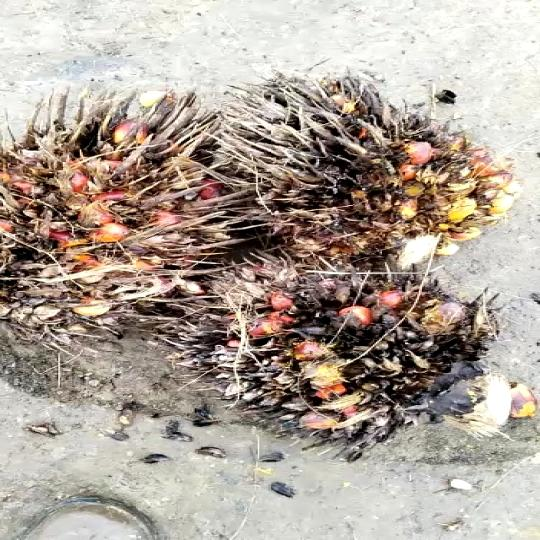terlalu masak: (0, 76, 272, 339), (188, 246, 483, 443), (238, 85, 506, 260)
